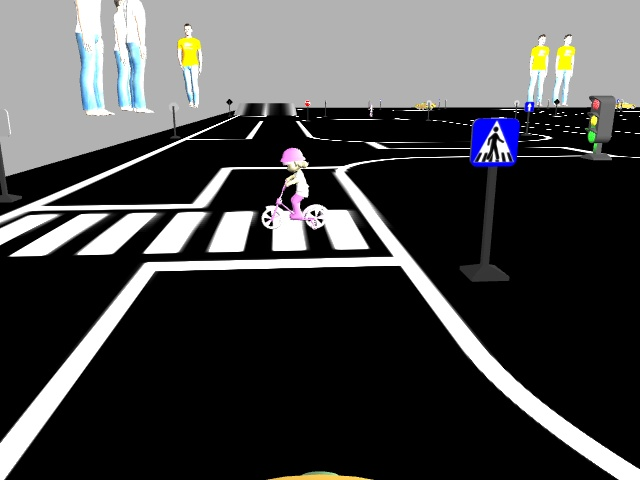Crosswalk: (469, 118, 519, 166)
Pedestrian: (259, 147, 332, 231)
TrafficLight: (585, 94, 615, 142)
